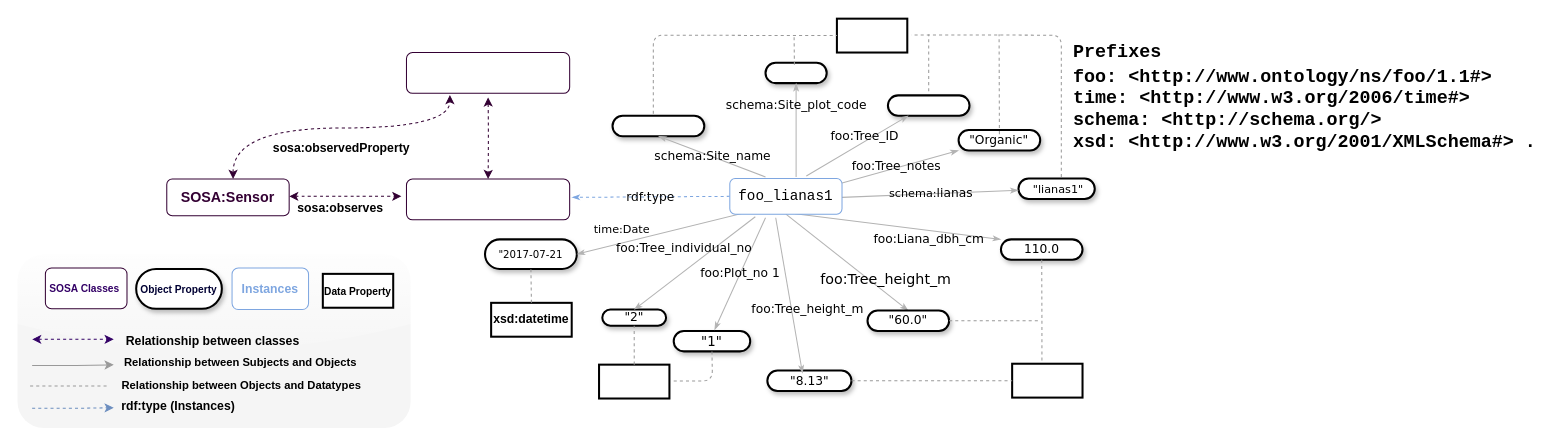
The diagram is 1554 pixels wide and 446 high, and some of its shapes have lost their labels. Each missing label, with the centre of its shape:
"Danum W15": point 659,127
"F1P1": point 796,74
Shorea: point 929,106
SOSA:ObservableProperty: point 487,72
SOSA:Observation: point 487,199
xsd:float: point 1047,380
xsd:integer: point 634,381
xsd:string: point 871,35
